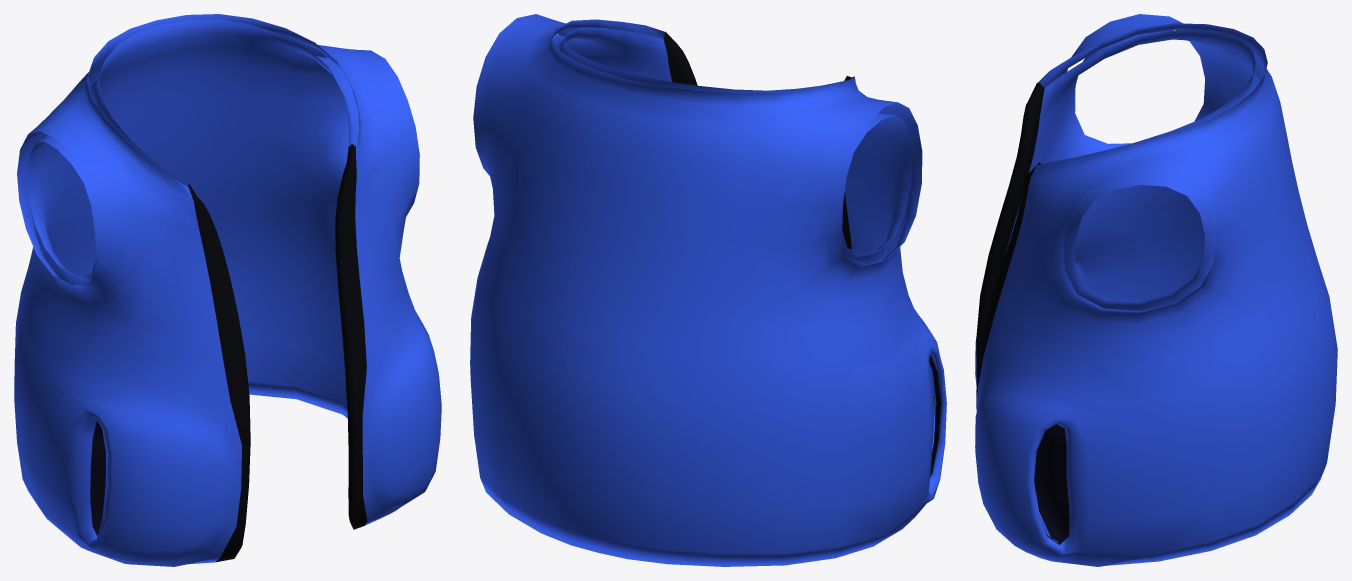
The model's file is Campera.fbx.
3 renders of one model, left to right at view 1: azimuth 30°, elevation 25°; view 2: azimuth 150°, elevation 25°; view 3: azimuth 270°, elevation 25°, orthographic. The views are drawn at different scales.
Visible parts, largest first — view 1: Campera; view 2: Campera; view 3: Campera.
Part boxes in pixels (<box>): Campera: <box>14,14,441,566</box>; Campera: <box>470,14,946,566</box>; Campera: <box>975,14,1337,566</box>.
Size of the model in its own units: 255 by 284 by 217.
